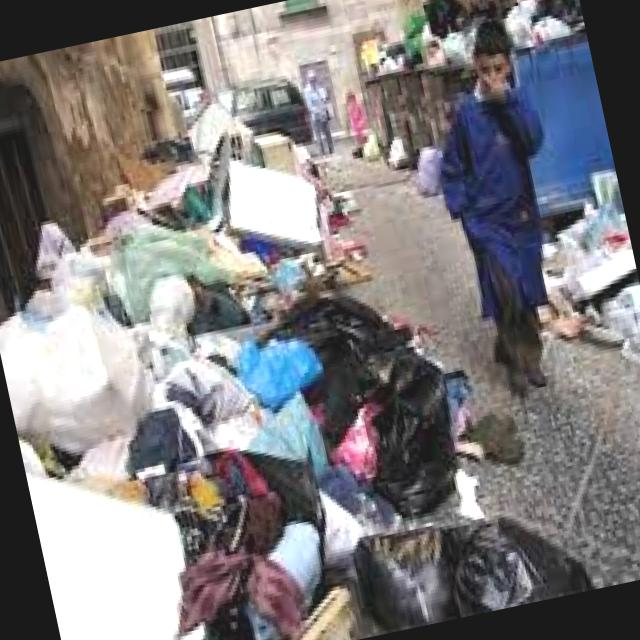garbage: (0, 57, 513, 640)
